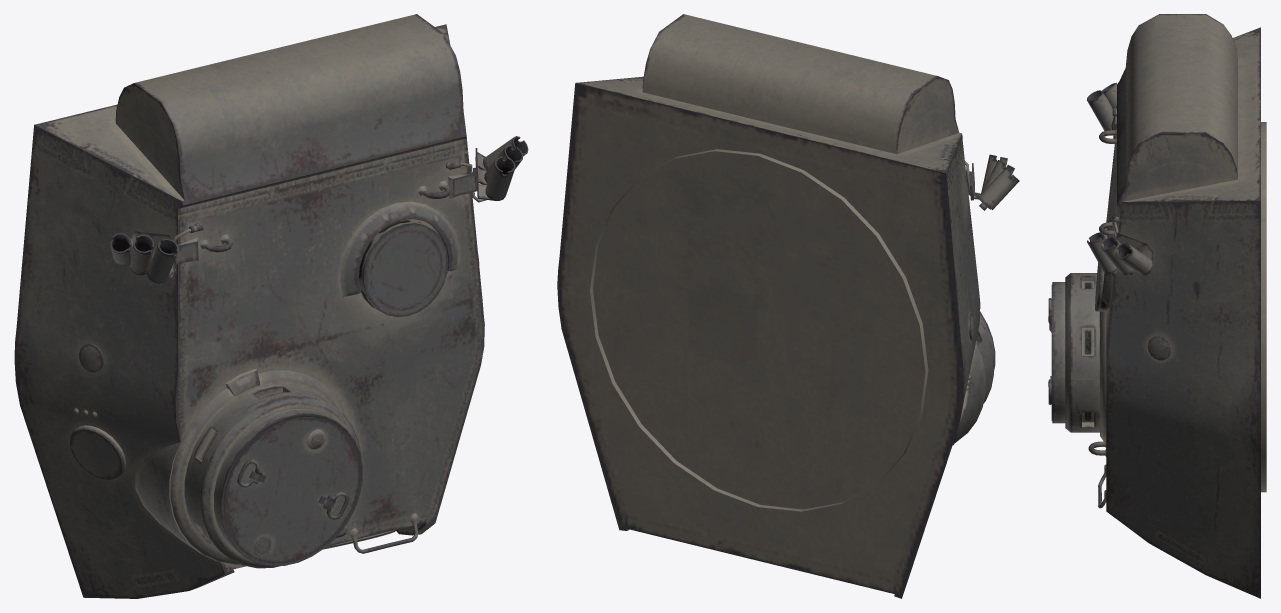
Rendered from Turret_01.glb.
3 renders of one model, left to right at view 1: azimuth 30°, elevation 25°; view 2: azimuth 150°, elevation 25°; view 3: azimuth 270°, elevation 25°, orthographic. The views are drawn at different scales.
Visible parts, largest first — view 1: set_0_group_0; view 2: set_0_group_0; view 3: set_0_group_0.
Part boxes in pixels (bbox=[...]): set_0_group_0: bbox=[14, 14, 528, 598]; set_0_group_0: bbox=[557, 14, 1019, 598]; set_0_group_0: bbox=[1048, 14, 1266, 598].
Bounding box in the file's own units: 2.24 × 2.53 × 1.09.
Materials: 1 (1 with a texture image).
